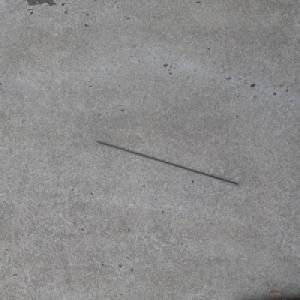LuggagePart: (95, 140, 240, 185)
